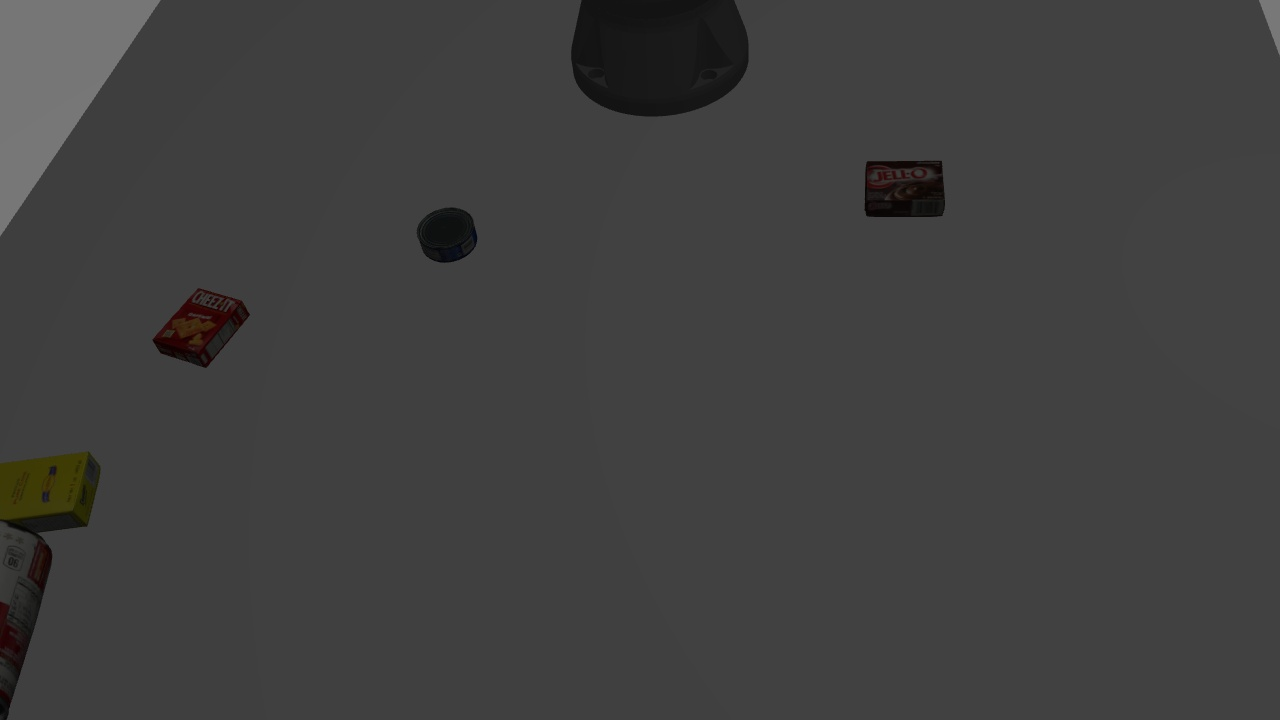cracker_box: (149, 288, 251, 365)
pudding_box: (864, 155, 949, 227)
sugar_box: (2, 445, 111, 520)
tomato_soup_can: (0, 528, 70, 717)
tuna_fish_can: (412, 208, 479, 261)
